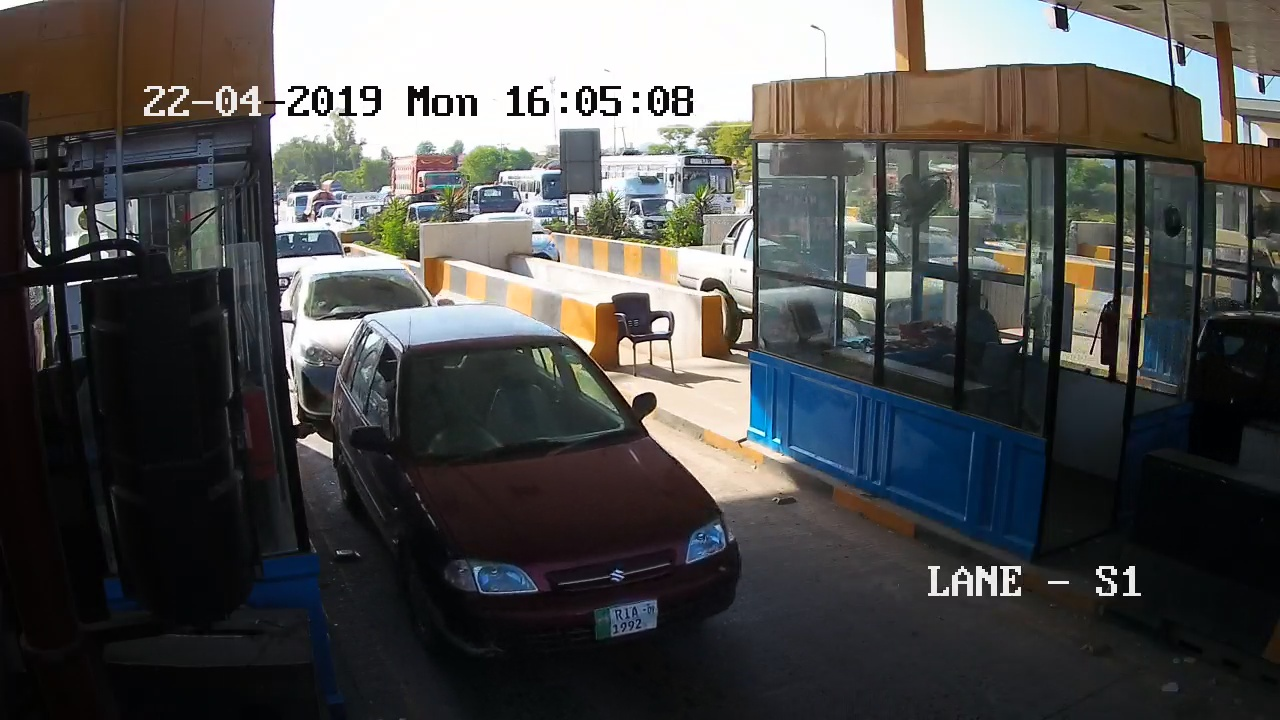Number Plate (Car): (595, 601, 661, 637)
